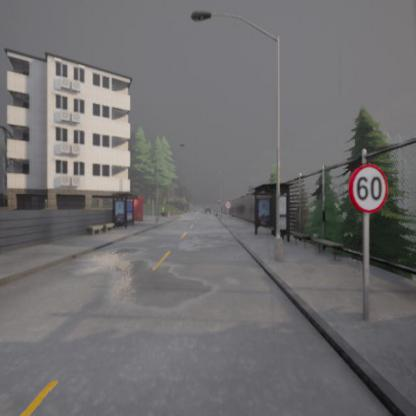traffic_sign_60: (348, 165, 389, 214)
